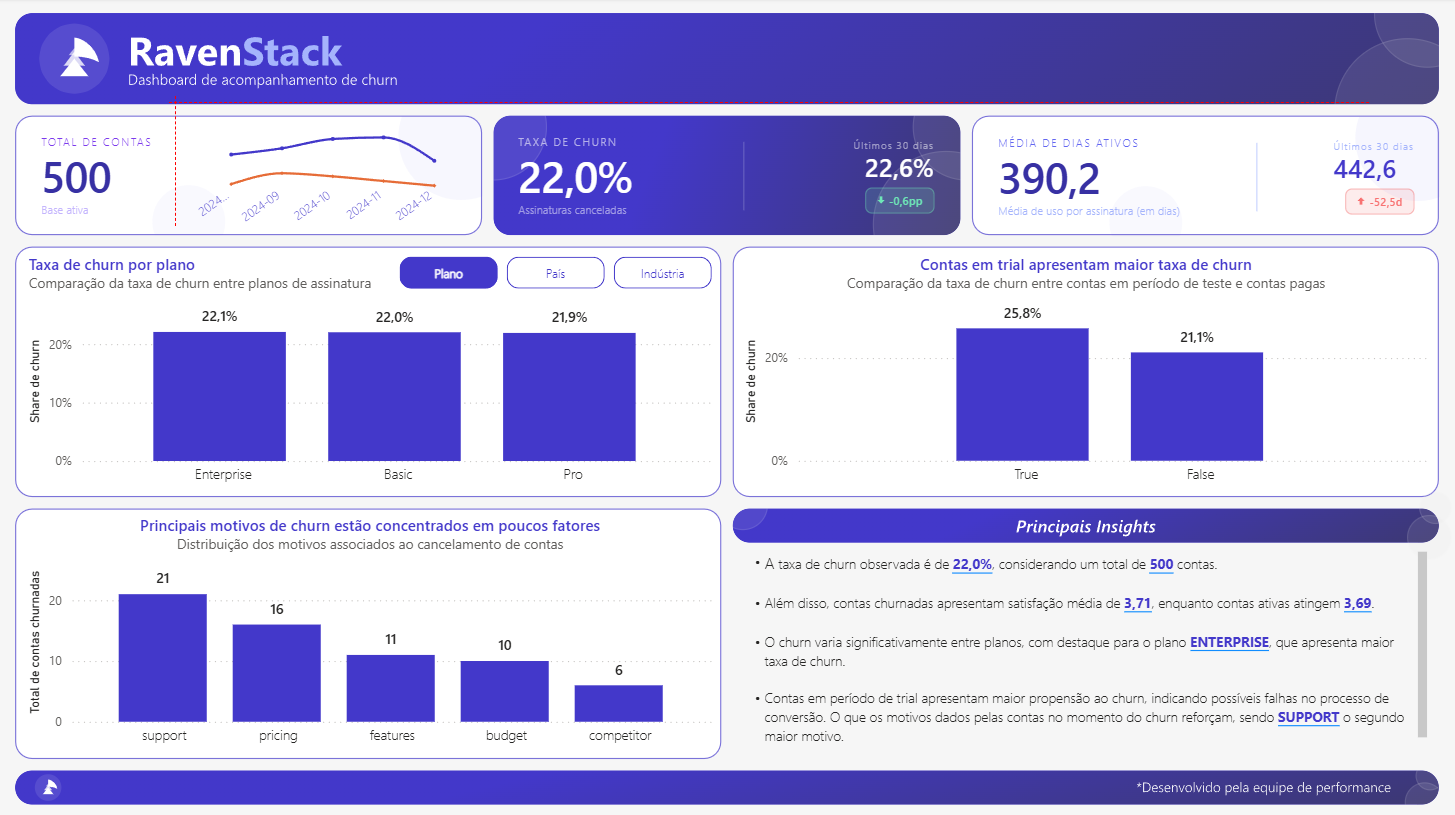

What the dashboard file says about the page in this screenshot:
{"tool":"powerbi","page":{"name":"Painel","canvas":[1280,720],"ordinal":0},"visuals":[{"type":"textbox","box":[649.8,481.2,610.2,183.5],"z":0},{"type":"clusteredColumnChart","fields":{"Category":["ravenstack_account_gold.plan"],"Y":["_Medidas (2).%_churn"]},"box":[21.6,224.9,610.8,211.8],"z":1000},{"type":"clusteredColumnChart","title":"Contas em trial apresentam maior taxa de churn","fields":{"Y":["_Medidas (2).%_churn"],"Category":["ravenstack_account_gold.is_trial"]},"box":[650.8,225,609.5,211.5],"z":2000},{"type":"clusteredColumnChart","title":"Principais motivos de churn estão concentrados em poucos fatores","fields":{"Category":["ravenstack_account_gold.reason"],"Y":["_Medidas (2).Total_contas_churnadas"]},"box":[21.5,453.6,609.5,211.5],"z":3000},{"type":"advancedSlicerVisual","fields":{"Values":["Paramentos.Selecao"]},"box":[347.8,222.3,285.9,38.5],"z":4000},{"type":"htmlContent443BE3AD55E043BF878BED274D3A6855","fields":{"content":["_Medidas (2).HTML_Churn_Card"]},"box":[429.4,98.2,422.1,115.6],"z":5000},{"type":"htmlContent443BE3AD55E043BF878BED274D3A6855","fields":{"content":["_Medidas (2).HTML_Uso_Card"]},"box":[850.8,98.8,422.6,115.8],"z":6000},{"type":"htmlContent443BE3AD55E043BF878BED274D3A6855","fields":{"content":["_Medidas (2).HTML_Contas_Card"]},"box":[10.7,98.6,427.1,115],"z":7000},{"type":"lineChart","fields":{"Y":["_Medidas (2).Total_contas","_Medidas (2).Total_contas_churnadas"],"Category":["Calendario.Mes_ano_1"]},"box":[165.7,97.9,240,110],"z":8000}]}

Visuals, with their boxes in screenshot pixels (x1, y1, x2, y2), scaled from the page's 1280x720 canvas onto the 1455x815 screenshot:
textbox: (739,545,1432,752)
clusteredColumnChart - ravenstack_account_gold.plan x _Medidas (2).%_churn: (25,255,719,494)
"Contas em trial apresentam maior taxa de churn" clusteredColumnChart: (740,255,1433,494)
"Principais motivos de churn estão concentrados em poucos fatores" clusteredColumnChart: (24,513,717,753)
advancedSlicerVisual - Paramentos.Selecao: (395,252,720,295)
htmlContent443BE3AD55E043BF878BED274D3A6855 - _Medidas (2).HTML_Churn_Card: (488,111,968,242)
htmlContent443BE3AD55E043BF878BED274D3A6855 - _Medidas (2).HTML_Uso_Card: (967,112,1447,243)
htmlContent443BE3AD55E043BF878BED274D3A6855 - _Medidas (2).HTML_Contas_Card: (12,112,498,242)
lineChart - _Medidas (2).Total_contas x _Medidas (2).Total_contas_churnadas: (188,111,461,235)
